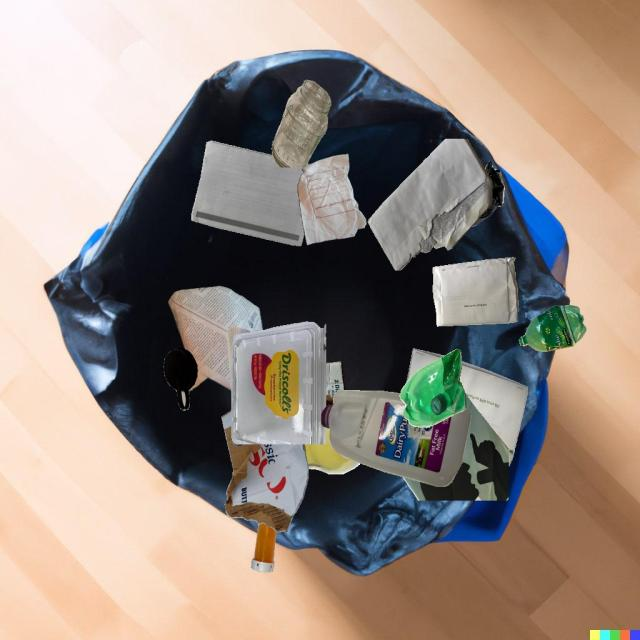cardboard: (221, 410, 309, 533), (326, 361, 345, 407)
glass: (272, 79, 331, 167), (303, 428, 361, 474)
paper: (368, 139, 492, 271), (192, 141, 304, 246), (402, 394, 509, 501), (168, 286, 263, 393), (459, 361, 528, 466), (298, 154, 366, 245), (433, 257, 518, 326), (227, 326, 251, 389)
plastic: (321, 390, 471, 487), (231, 321, 326, 444), (400, 349, 466, 428), (519, 305, 586, 352), (471, 161, 505, 227), (163, 348, 198, 410), (251, 523, 276, 572), (434, 243, 444, 249), (233, 441, 245, 446)
